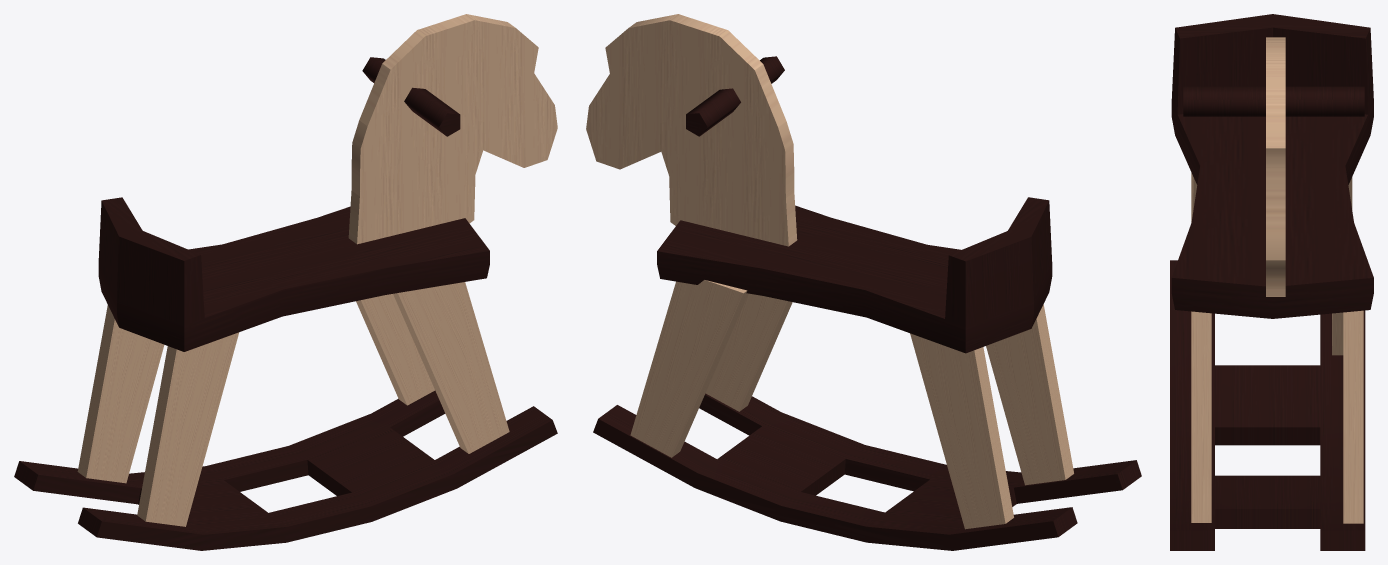
File: Rocking_Horse.FBX
3 renders of one model, left to right at view 1: azimuth 30°, elevation 25°; view 2: azimuth 150°, elevation 25°; view 3: azimuth 270°, elevation 25°, orthographic. The views are drawn at different scales.
Visible parts, largest first — view 1: Rocking_Horse; view 2: Rocking_Horse; view 3: Rocking_Horse.
Part boxes in pixels (left/top/right/bottom): Rocking_Horse: left=14, top=14, right=557, bottom=550; Rocking_Horse: left=586, top=14, right=1141, bottom=550; Rocking_Horse: left=1170, top=14, right=1373, bottom=550.
Bounding box in the file's own units: 170 × 141 × 50.58.
